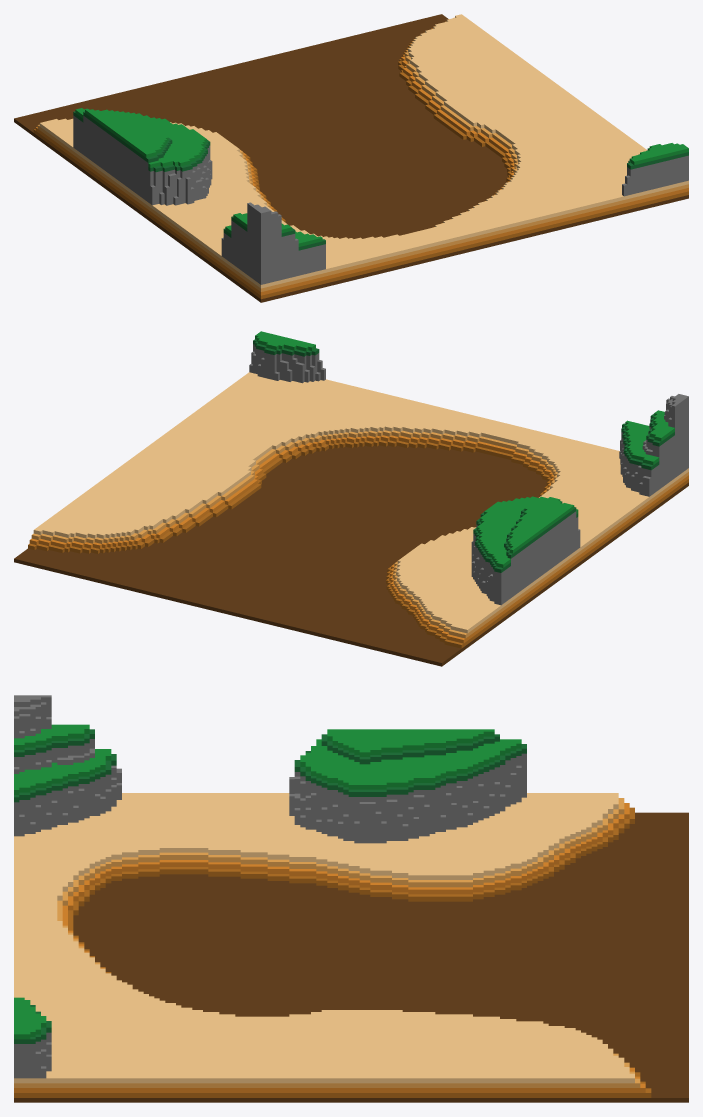
File: Terrain 2.obj
3 views of the same model, one above another, from view 1: azimuth 30°, elevation 25°; view 2: azimuth 150°, elevation 25°; view 3: azimuth 270°, elevation 25° (orthographic). The views are drawn at different scales.
Visible parts, largest first — view 1: Terrain 2; view 2: Terrain 2; view 3: Terrain 2.
Part boxes in pixels (<box>): Terrain 2: <box>14,14,688,302</box>; Terrain 2: <box>14,331,688,666</box>; Terrain 2: <box>14,695,688,1102</box>.
Size of the model in its own units: 125 by 25 by 125.
1 material, 1 textured.
